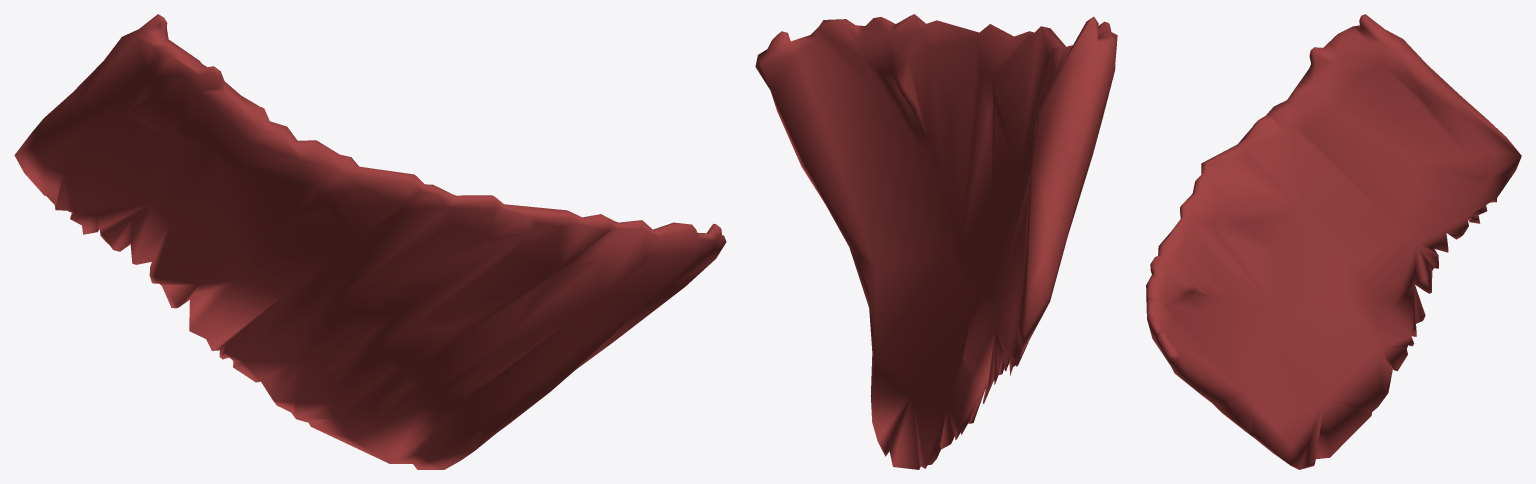
File: depressor-labii-inferioris-r.glb
The picture shows the model from 3 angles, left to right: view 1: azimuth 30°, elevation 25°; view 2: azimuth 150°, elevation 25°; view 3: azimuth 270°, elevation 25°; orthographic projection. The views are drawn at different scales.
Parts seen in each view (by area): view 1: Depressor labii inferioris.r; view 2: Depressor labii inferioris.r; view 3: Depressor labii inferioris.r.
Boxes of the visible parts, box(x1,y1,x2,y2) form: Depressor labii inferioris.r: box(14, 14, 726, 469); Depressor labii inferioris.r: box(755, 14, 1117, 469); Depressor labii inferioris.r: box(1146, 14, 1521, 469).
Bounding box in the file's own units: 0.0306 × 0.0295 × 0.0273.
